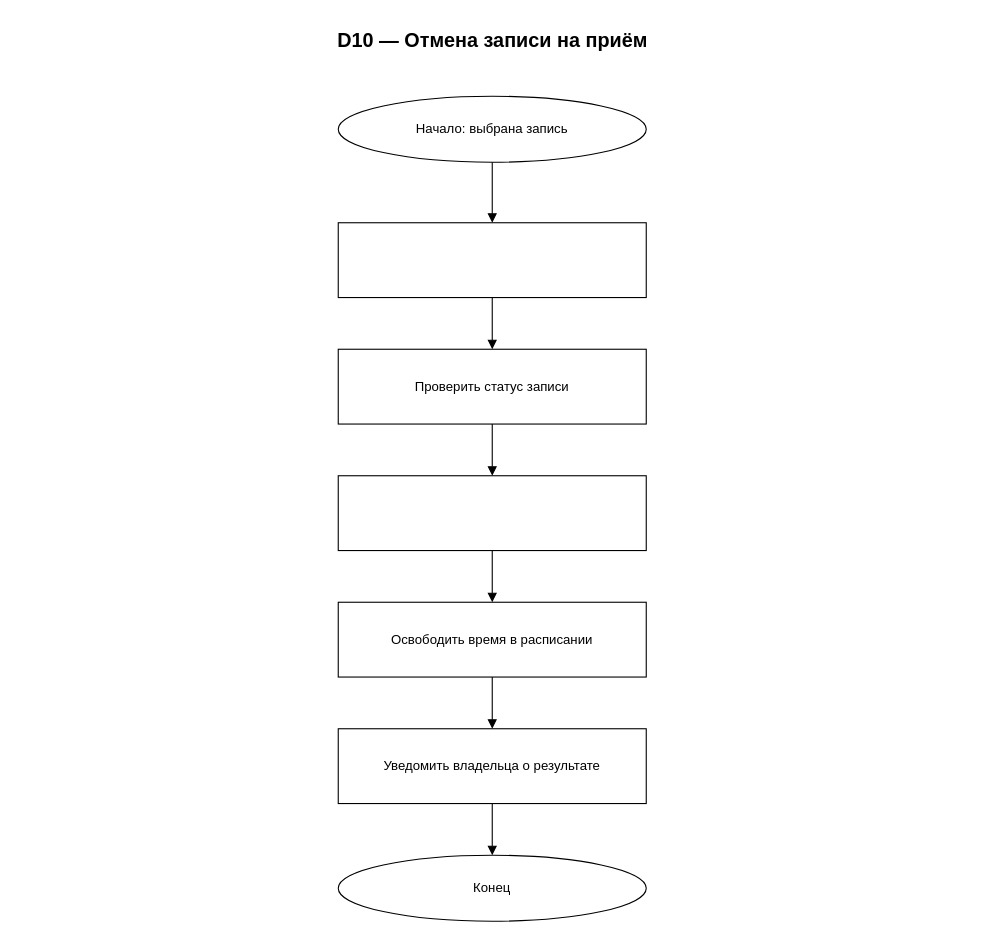
Image size: 983x941. Some labels were removed from this diagram. Here are the shapes that lost their labels. From the top down, the centre of each, then its label:
At (x=491, y=260): "Запросить подтверждение отмены".
At (x=491, y=513): "Отметить запись как отменённую".
